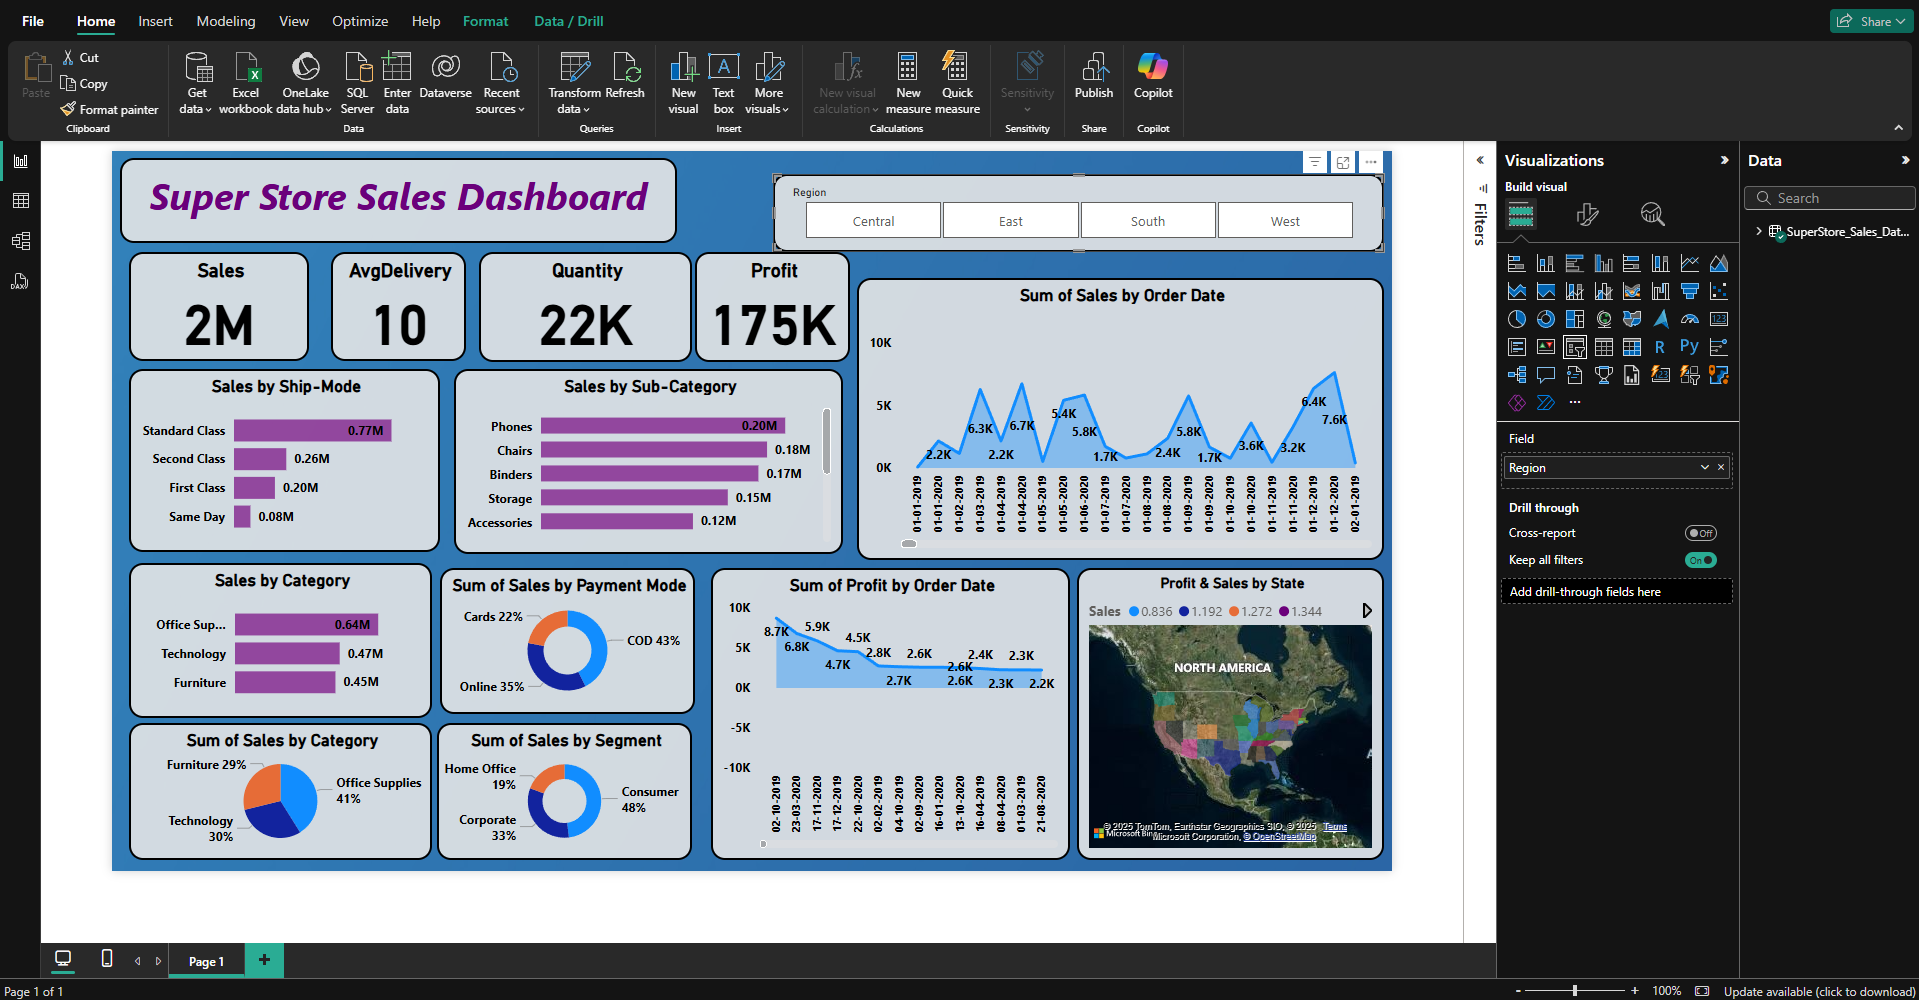

Layout of this report page (visuals, bound fields, positions):
{"tool":"powerbi","page":{"name":"Page 1","canvas":[1280,720],"ordinal":0},"visuals":[{"type":"clusteredBarChart","title":"Sales by Category","fields":{"Category":["SuperStore_Sales_Dataset.Category"],"Y":["Sum(SuperStore_Sales_Dataset.Sales)"]},"box":[17,412,303,155],"z":0},{"type":"clusteredBarChart","title":"Sales by Sub-Category","fields":{"Category":["SuperStore_Sales_Dataset.Sub-Category"],"Y":["Sum(SuperStore_Sales_Dataset.Sales)"]},"box":[327.7,218.2,403.1,184.9],"z":1000},{"type":"clusteredBarChart","title":"Sales by Ship-Mode","fields":{"Category":["SuperStore_Sales_Dataset.Ship Mode"],"Y":["Sum(SuperStore_Sales_Dataset.Sales)"]},"box":[17.1,218.2,307.9,183.1],"z":2000},{"type":"areaChart","fields":{"Category":["SuperStore_Sales_Dataset.Order Date"],"Y":["Sum(SuperStore_Sales_Dataset.Profit)"]},"box":[582.6,416.6,375.3,292.7],"z":3000},{"type":"filledMap","title":"Profit & Sales by State","fields":{"Category":["SuperStore_Sales_Dataset.State"],"Series":["SuperStore_Sales_Dataset.Sales"]},"box":[965,417,307,292],"z":4000},{"type":"donutChart","fields":{"Category":["SuperStore_Sales_Dataset.Segment"],"Y":["Sum(SuperStore_Sales_Dataset.Sales)"]},"box":[325,571.9,255,137.4],"z":5000},{"type":"donutChart","fields":{"Category":["SuperStore_Sales_Dataset.Payment Mode"],"Y":["Sum(SuperStore_Sales_Dataset.Sales)"]},"box":[327.7,416.6,252.3,146.3],"z":6000},{"type":"pieChart","fields":{"Y":["Sum(SuperStore_Sales_Dataset.Sales)"],"Category":["SuperStore_Sales_Dataset.Category"]},"box":[17,572,303,137],"z":7000},{"type":"slicer","title":"Region","fields":{"Values":["SuperStore_Sales_Dataset.Region"]},"box":[17.1,25.1,562.9,68],"z":8000},{"type":"textbox","box":[640.1,2.7,632,84.4],"z":9000},{"type":"card","title":"Sales","fields":{"Values":["Sum(SuperStore_Sales_Dataset.Sales)"]},"box":[17,101,180,109],"z":10000},{"type":"card","title":"Profit","fields":{"Values":["Sum(SuperStore_Sales_Dataset.Profit)"]},"box":[583,101,155,110],"z":11000},{"type":"card","title":"Quantity","fields":{"Values":["Sum(SuperStore_Sales_Dataset.Quantity)"]},"box":[367,101,213,110],"z":12000},{"type":"card","title":"AvgDelivery","fields":{"Values":["Avg(SuperStore_Sales_Dataset.AvgDelivery)"]},"box":[219,101,135,109],"z":13000},{"type":"stackedAreaChart","fields":{"Category":["SuperStore_Sales_Dataset.Order Date"],"Y":["Sum(SuperStore_Sales_Dataset.Sales)"]},"box":[745.1,101.4,527,307.9],"z":14000}]}

Visuals, with their boxes on the page's 1280x720 design canvas (x1, y1, x2, y2). These are canvas units, not pixel positions in the 1919x1000 screenshot, which may show the page scaled, cropped or inside an application window:
"Sales by Category" clusteredBarChart: {"left": 17, "top": 412, "right": 320, "bottom": 567}
"Sales by Sub-Category" clusteredBarChart: {"left": 328, "top": 218, "right": 731, "bottom": 403}
"Sales by Ship-Mode" clusteredBarChart: {"left": 17, "top": 218, "right": 325, "bottom": 401}
areaChart - SuperStore_Sales_Dataset.Order Date x Sum(SuperStore_Sales_Dataset.Profit): {"left": 583, "top": 417, "right": 958, "bottom": 709}
"Profit & Sales by State" filledMap: {"left": 965, "top": 417, "right": 1272, "bottom": 709}
donutChart - SuperStore_Sales_Dataset.Segment x Sum(SuperStore_Sales_Dataset.Sales): {"left": 325, "top": 572, "right": 580, "bottom": 709}
donutChart - SuperStore_Sales_Dataset.Payment Mode x Sum(SuperStore_Sales_Dataset.Sales): {"left": 328, "top": 417, "right": 580, "bottom": 563}
pieChart - Sum(SuperStore_Sales_Dataset.Sales) x SuperStore_Sales_Dataset.Category: {"left": 17, "top": 572, "right": 320, "bottom": 709}
"Region" slicer: {"left": 17, "top": 25, "right": 580, "bottom": 93}
textbox: {"left": 640, "top": 3, "right": 1272, "bottom": 87}
"Sales" card: {"left": 17, "top": 101, "right": 197, "bottom": 210}
"Profit" card: {"left": 583, "top": 101, "right": 738, "bottom": 211}
"Quantity" card: {"left": 367, "top": 101, "right": 580, "bottom": 211}
"AvgDelivery" card: {"left": 219, "top": 101, "right": 354, "bottom": 210}
stackedAreaChart - SuperStore_Sales_Dataset.Order Date x Sum(SuperStore_Sales_Dataset.Sales): {"left": 745, "top": 101, "right": 1272, "bottom": 409}
